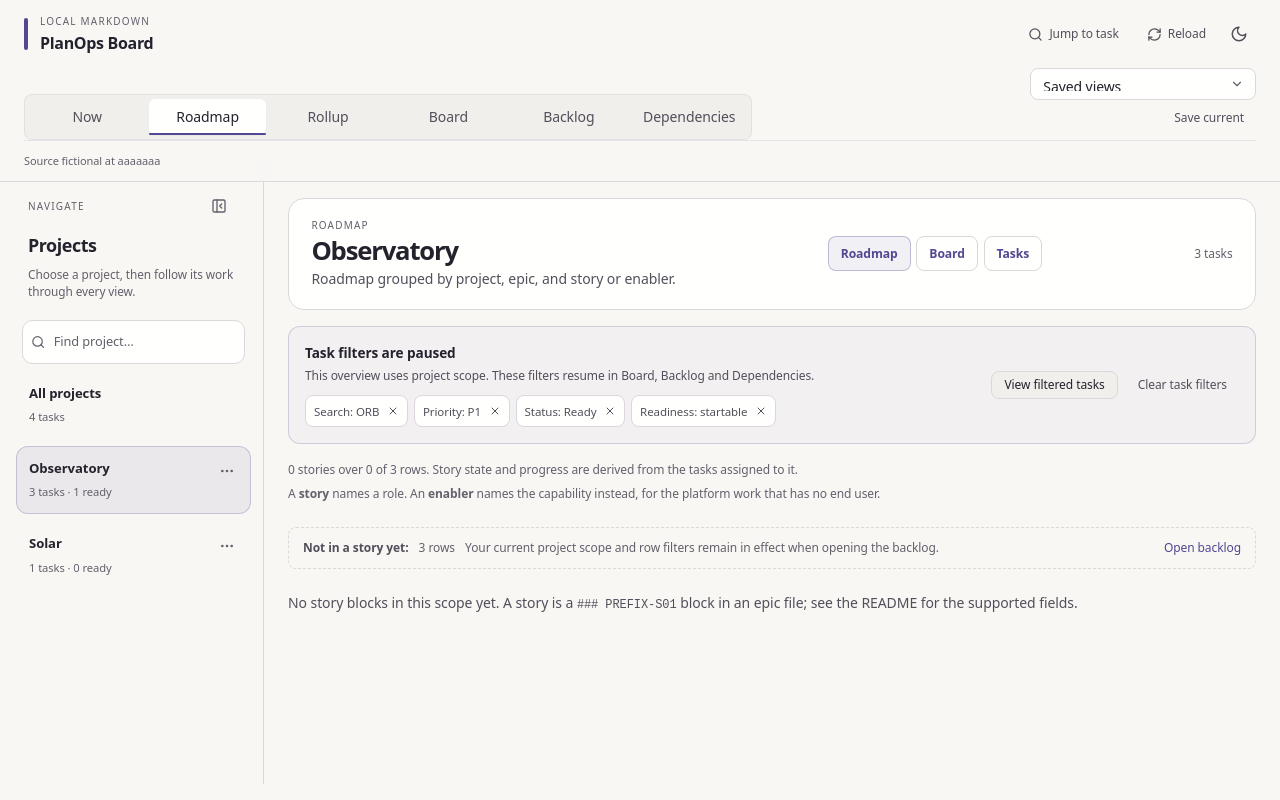
Test: project scope and held filters › resets every row filter and the grouping when the rail selects a project from stories
The image size is (1280, 800).
Click the button "Solar 1 tasks · 0 ready" at (134, 555), box top-left (16, 521), bottom-right (251, 589)
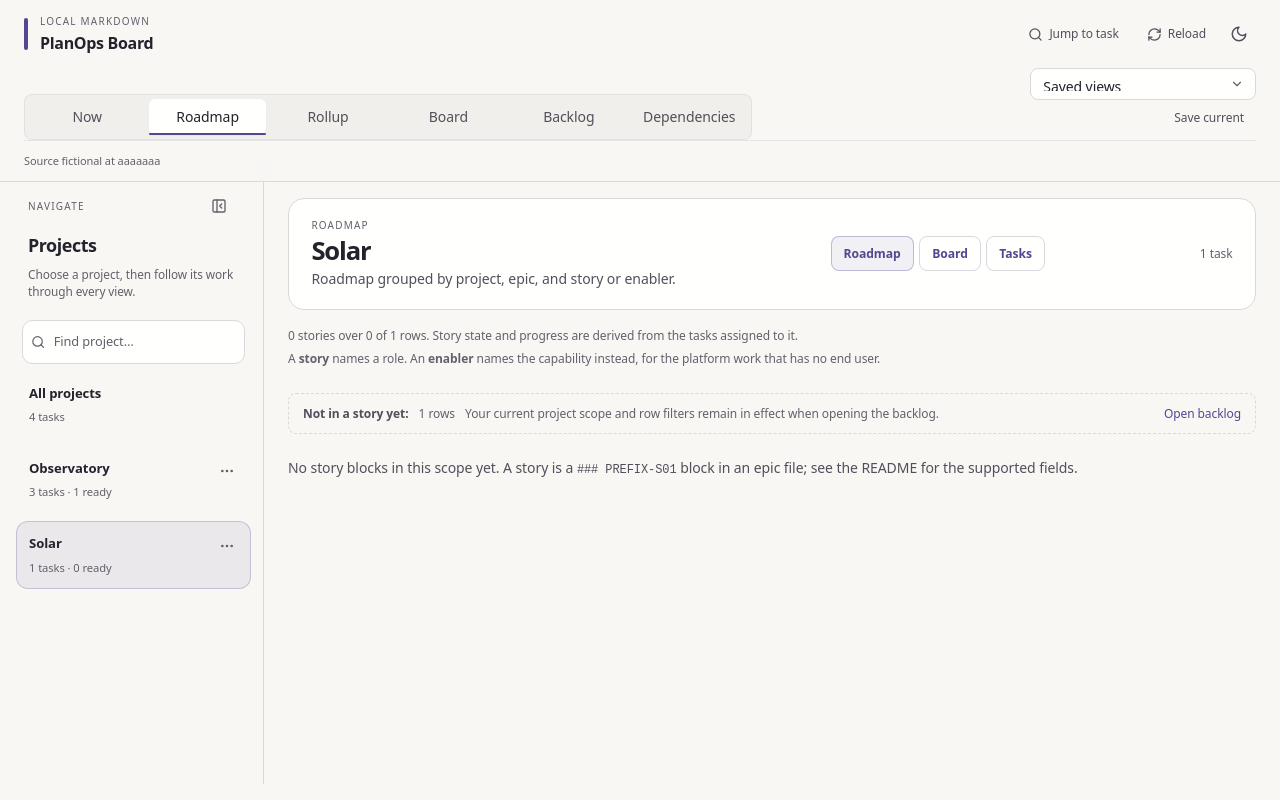
Result: the heading "Solar" is shown at top-left (311, 233), bottom-right (370, 268)
Click the radio button labelled "Backlog" at (569, 117), box top-left (511, 99), bottom-right (627, 135)
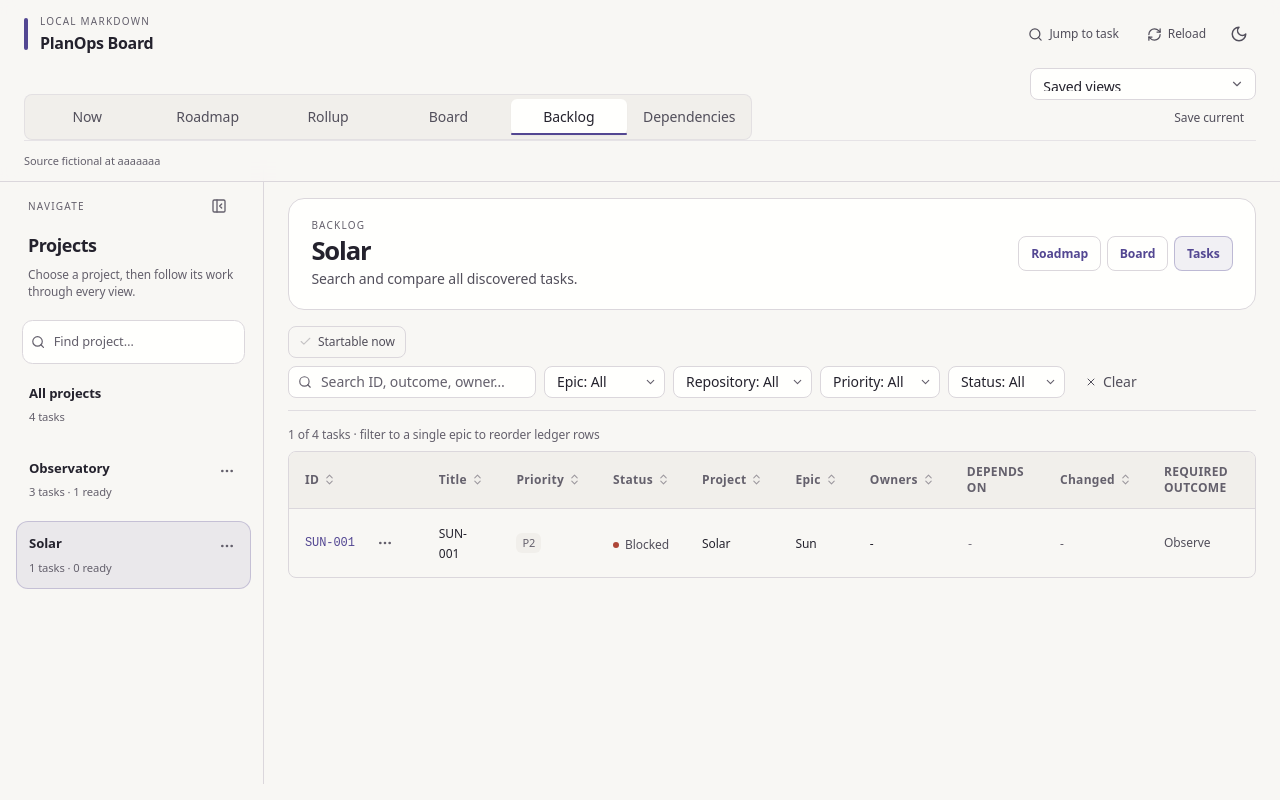
Result: the button "SUN-001" is shown at top-left (305, 534), bottom-right (355, 550)
Result: the search field with placeholder "Search ID, outcome, owner…" is empty at top-left (288, 366), bottom-right (536, 398)
